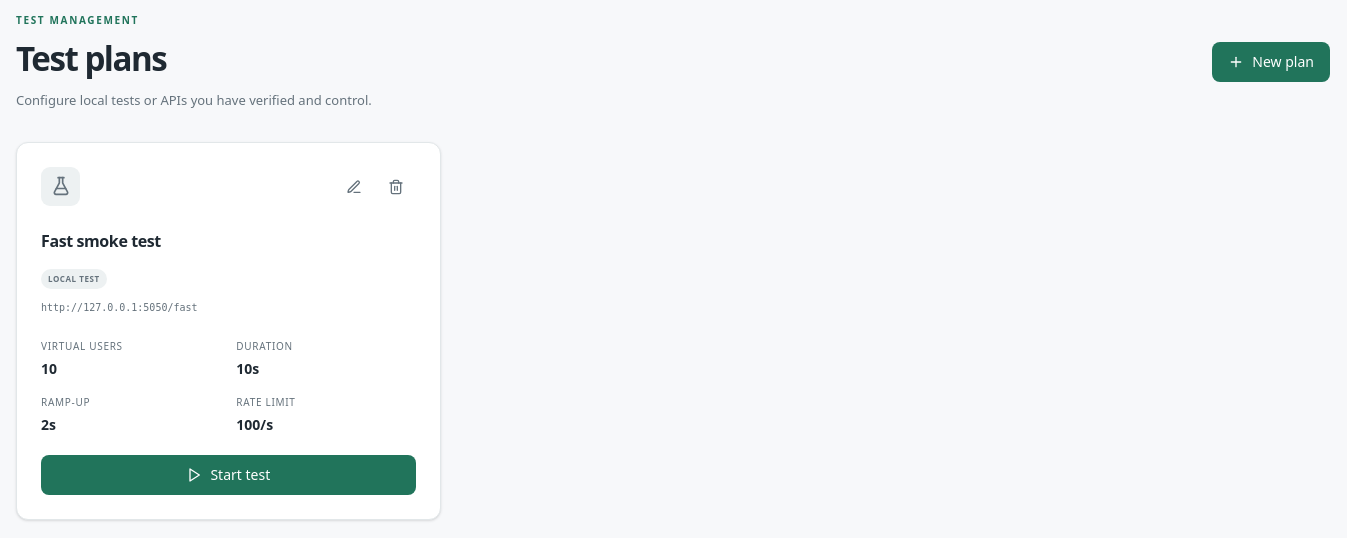
Test: dashboard actions › deletes a test plan after confirmation
Expected: the heading "Fast smoke test" is shown, top-left (41, 230), bottom-right (161, 252)
Click the button named "Delete Fast smoke test" at (396, 186), box top-left (376, 166), bottom-right (416, 206)
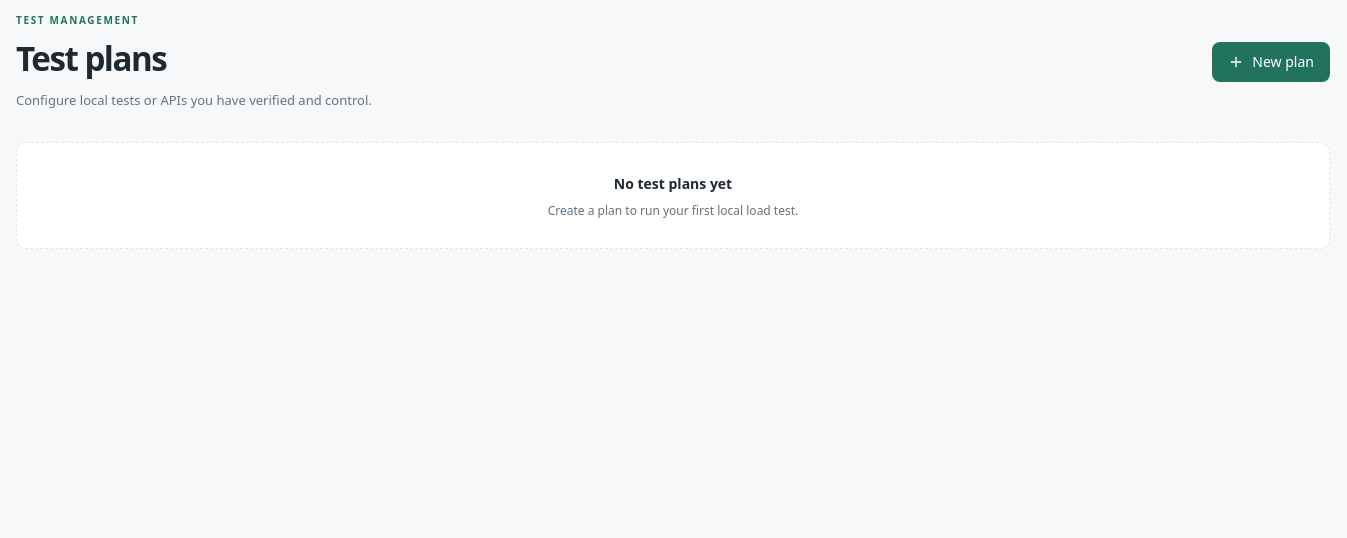
Expected: the heading "Fast smoke test" is gone
